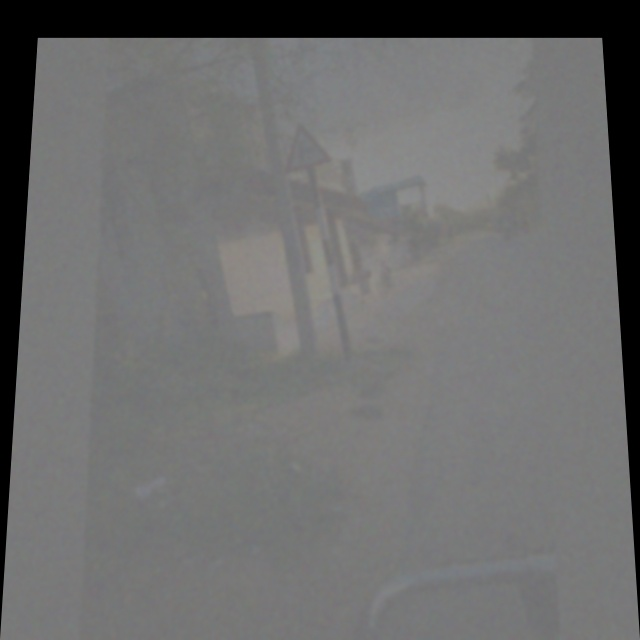Side_Road_Right: (279, 119, 336, 176)
